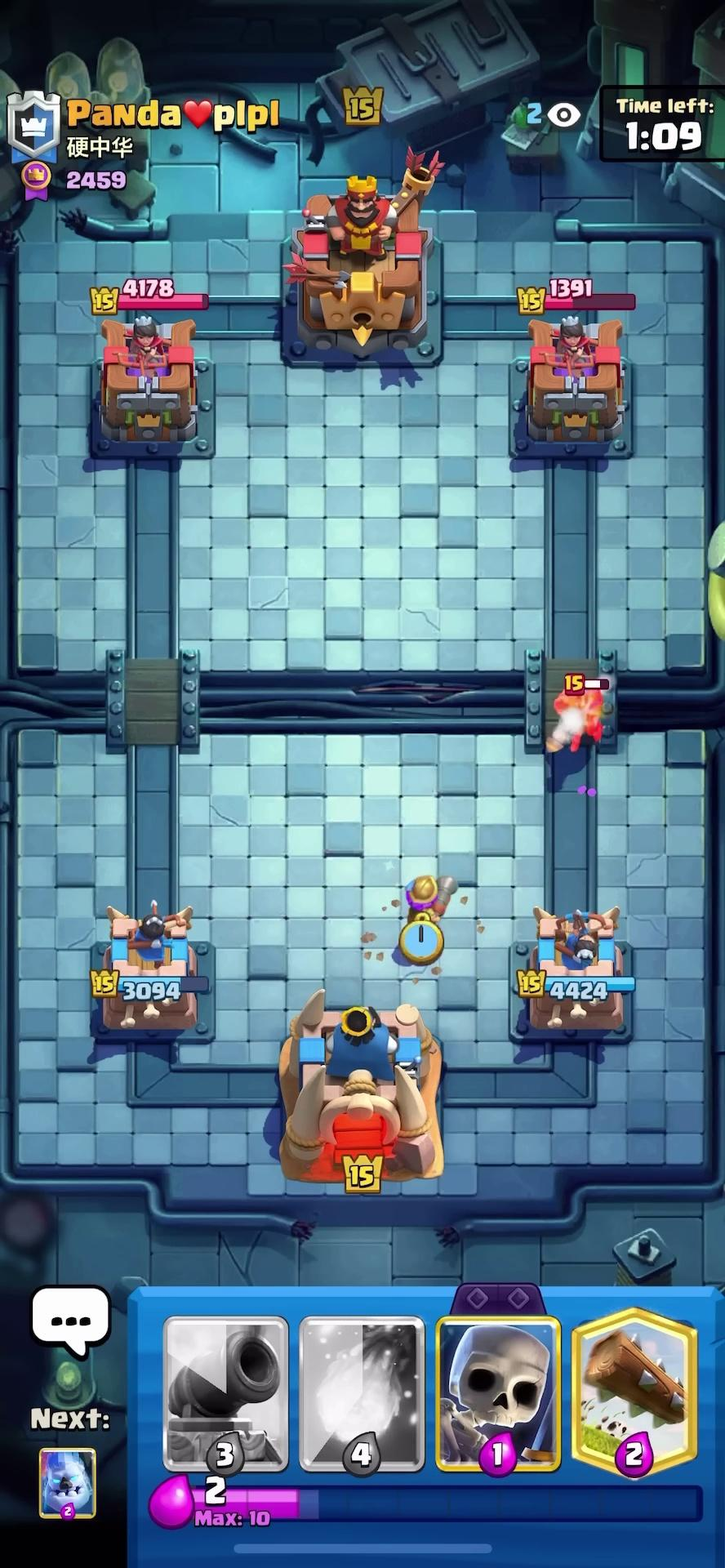musketeer: (384, 851, 461, 943)
